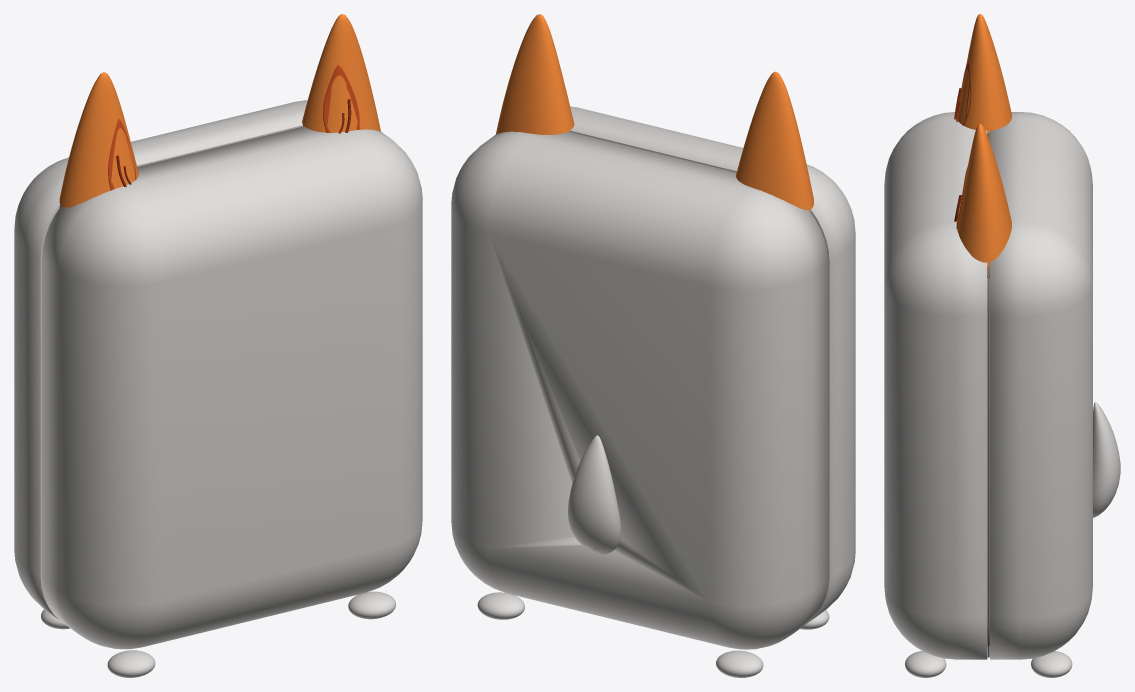
File: PocketMung_reference_assembly.glb
3 renders of one model, left to right at view 1: azimuth 30°, elevation 25°; view 2: azimuth 150°, elevation 25°; view 3: azimuth 270°, elevation 25°, orthographic. The views are drawn at different scales.
Visible parts, largest first — view 1: REF_Body_Front_Blank, REF_Body_Rear, Ear_Left_Orange, Ear_Right_Orange, Foot_L_Front, Foot_R_Front, Ear_Right_Inner_Recess; view 2: REF_Body_Rear, REF_Body_Front_Blank, Ear_Left_Orange, Ear_Right_Orange, Tail_Teardrop, Foot_L_Rear, Foot_R_Rear; view 3: REF_Body_Rear, REF_Body_Front_Blank, Ear_Right_Orange, Ear_Left_Orange, Tail_Teardrop, Reference_Seam_Shadow, Foot_R_Rear, Foot_R_Front, Rear_Alignment_Lip.
Boxes of the visible parts, <box> form: REF_Body_Front_Blank: <box>42,126,422,649</box>; REF_Body_Rear: <box>14,100,307,620</box>; Ear_Left_Orange: <box>59,72,138,207</box>; Ear_Right_Orange: <box>302,14,380,132</box>; Foot_L_Front: <box>107,650,155,677</box>; Foot_R_Front: <box>348,591,395,619</box>; Ear_Right_Inner_Recess: <box>323,64,359,132</box>; REF_Body_Rear: <box>451,131,828,649</box>; REF_Body_Front_Blank: <box>570,106,855,621</box>; Ear_Left_Orange: <box>736,71,813,212</box>; Ear_Right_Orange: <box>496,14,574,134</box>; Tail_Teardrop: <box>568,435,621,554</box>; Foot_L_Rear: <box>716,650,763,677</box>; Foot_R_Rear: <box>477,592,524,619</box>; REF_Body_Rear: <box>990,112,1092,659</box>; REF_Body_Front_Blank: <box>884,112,987,659</box>; Ear_Right_Orange: <box>956,124,1011,277</box>; Ear_Left_Orange: <box>958,14,1011,141</box>; Tail_Teardrop: <box>1093,402,1120,517</box>; Reference_Seam_Shadow: <box>987,133,989,657</box>; Foot_R_Rear: <box>1031,651,1072,677</box>; Foot_R_Front: <box>905,651,946,677</box>; Rear_Alignment_Lip: <box>987,278,989,646</box>.
Size of the model in its own units: 78 by 122 by 47.58.
